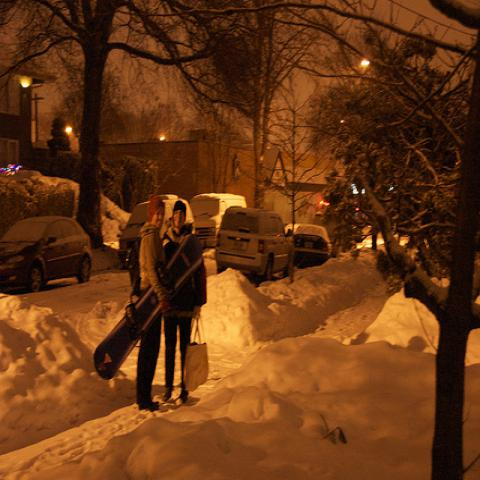car: (0, 216, 95, 292), (215, 207, 296, 281), (119, 194, 197, 261), (189, 192, 248, 250), (293, 223, 331, 266)
